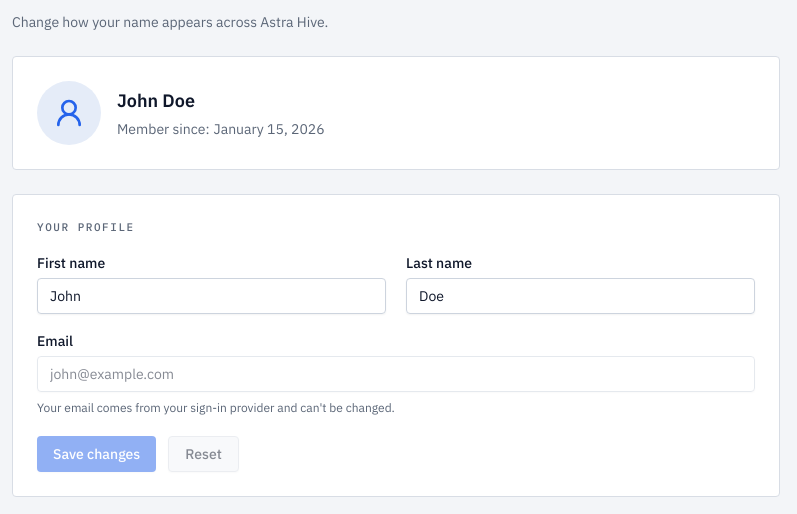
ProfileView › saves trimmed names and updates the signed-in user
The image size is (797, 514).
Replace the text in the field labelled "First name" with "  Jane " at (212, 296), box [37,278,386,314]
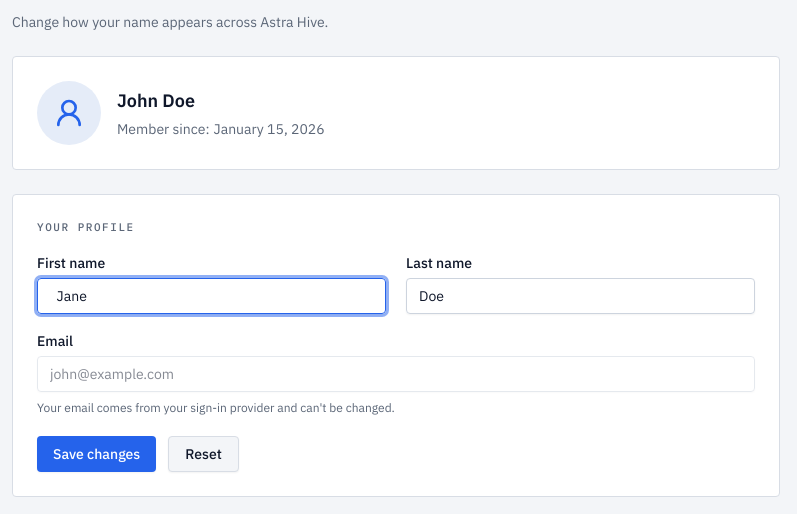
Replace the text in the field labelled "Last name" with "Smith" at (580, 296), box [406,278,755,314]
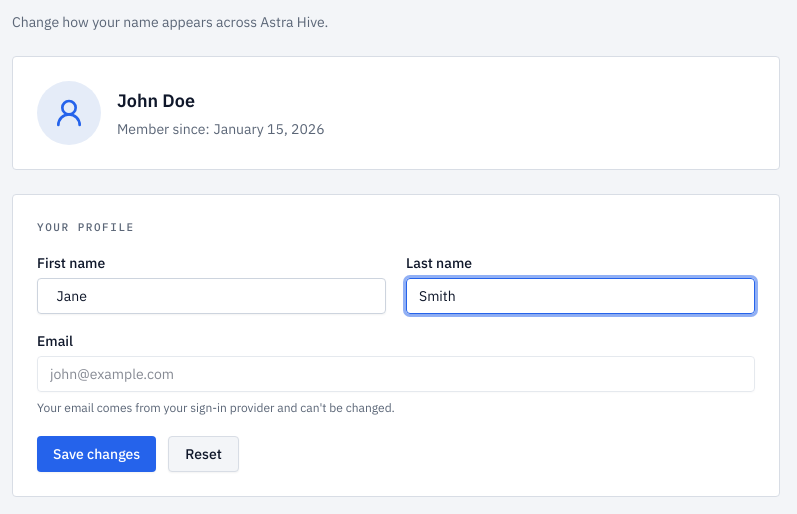
Click the button "Save changes" at (97, 454), box [37,436,156,472]
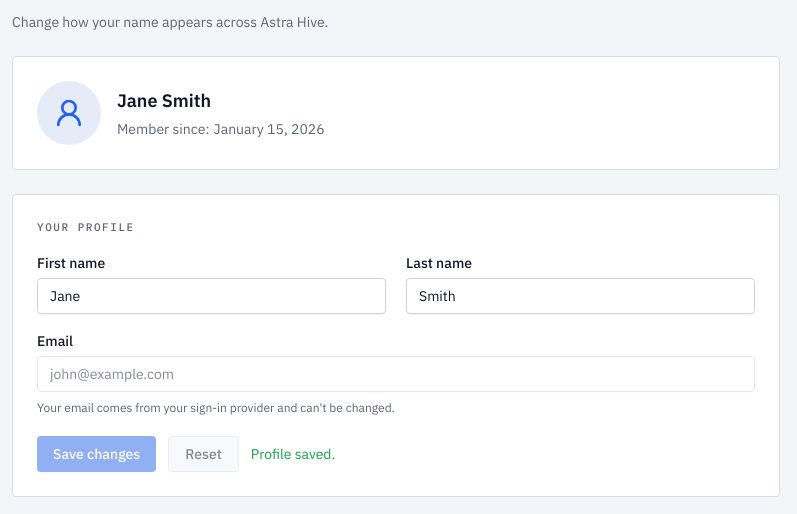
expect the text "Profile saved." is shown: met, box [251,444,335,464]
expect the heading "Jane Smith" is shown: met, box [117,89,211,112]
